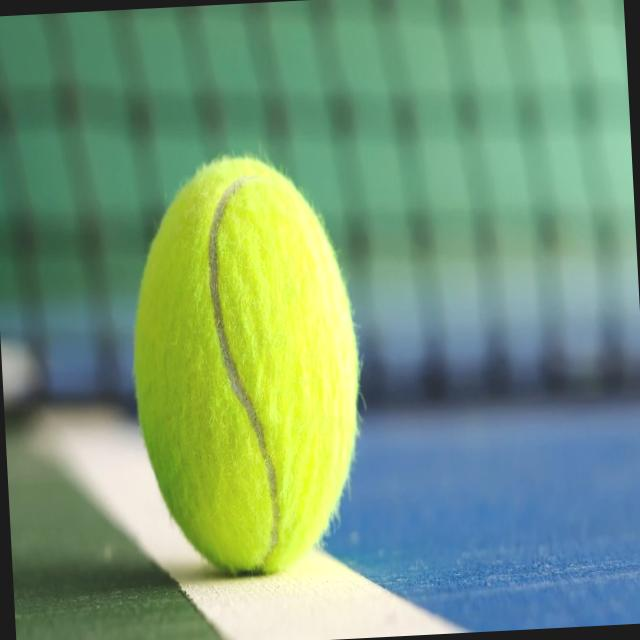Tennis Ball: (135, 159, 360, 575)
